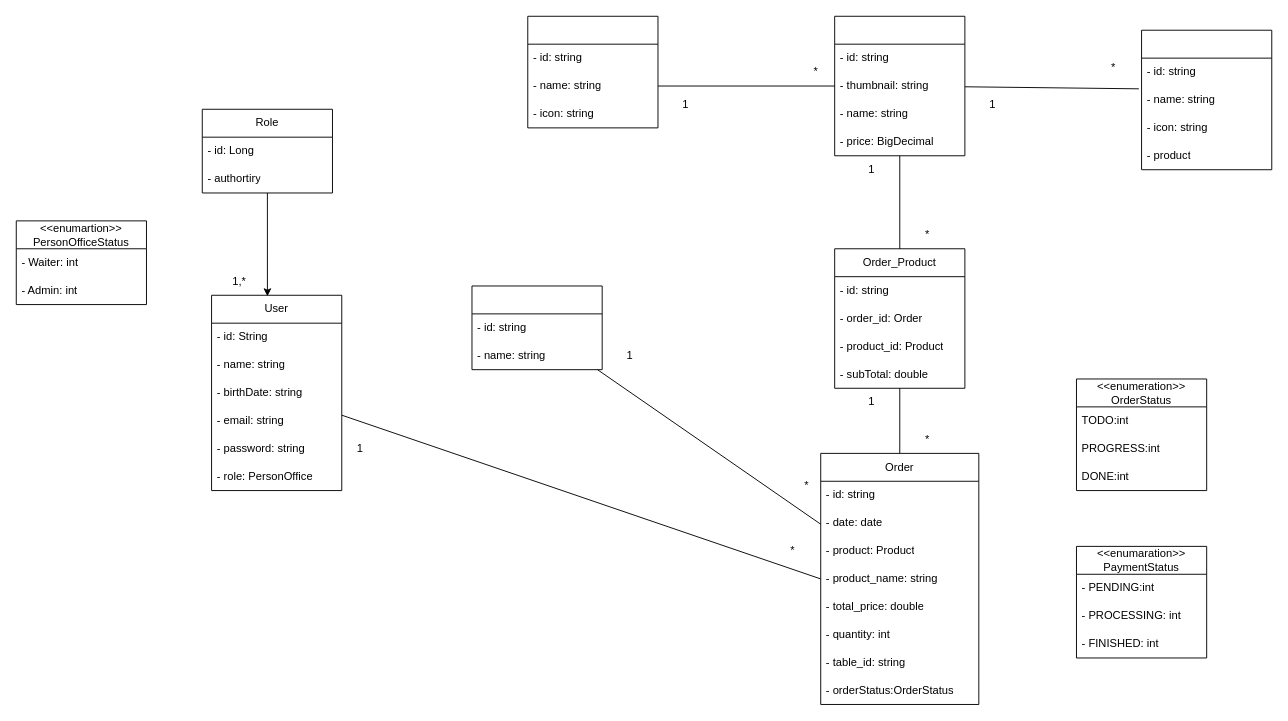
Some shapes in this 1288 by 721 pixel diagram are drawn without their labels. Each missing label, with the box of its shape:
Category: (527, 15, 658, 128)
Ingredients: (1141, 29, 1272, 170)
Product: (834, 15, 965, 156)
Table: (471, 285, 602, 370)
